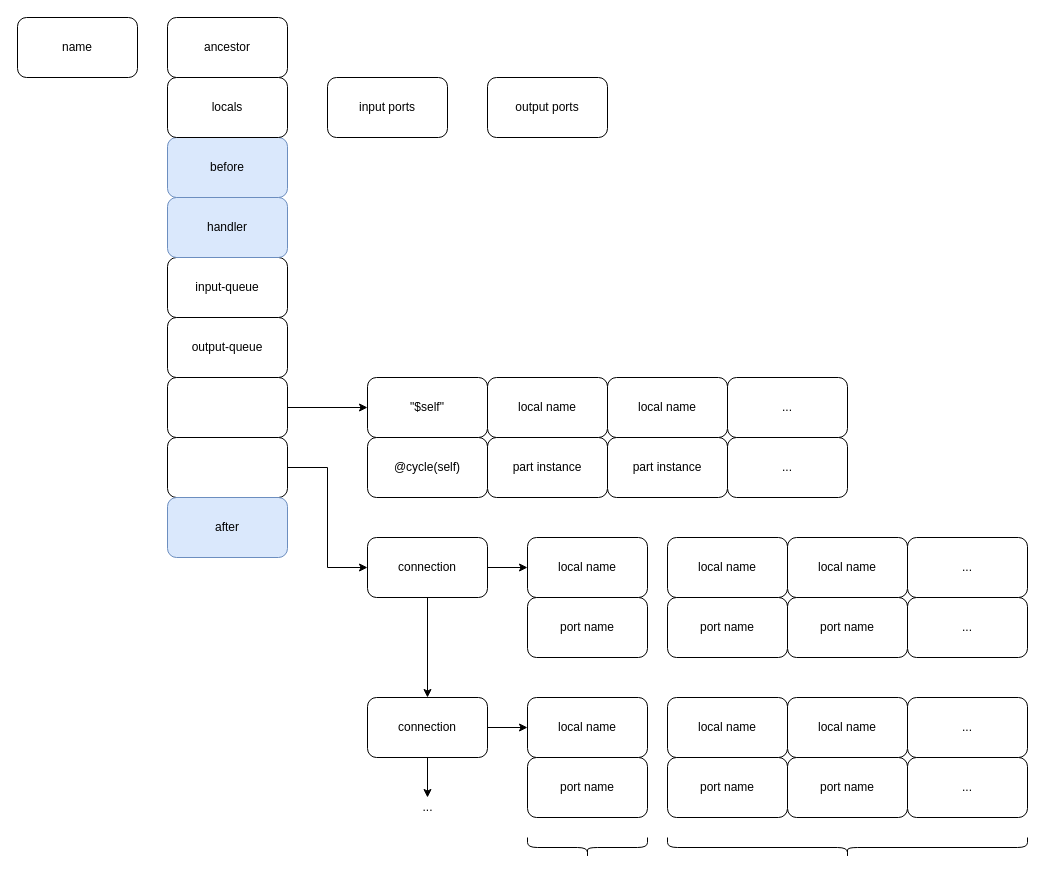
The diagram is 1045 pixels wide and 895 high, and some of its shapes have lost their labels. The centre of each missing label's shape, as x and y in pixels:
children: [227,407]
connections: [227,467]
receivers: [847,847]
sender: [587,847]
